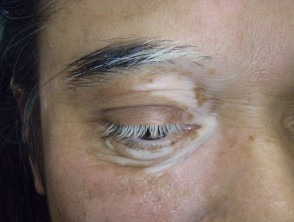Melasma: (128, 26, 241, 106)
